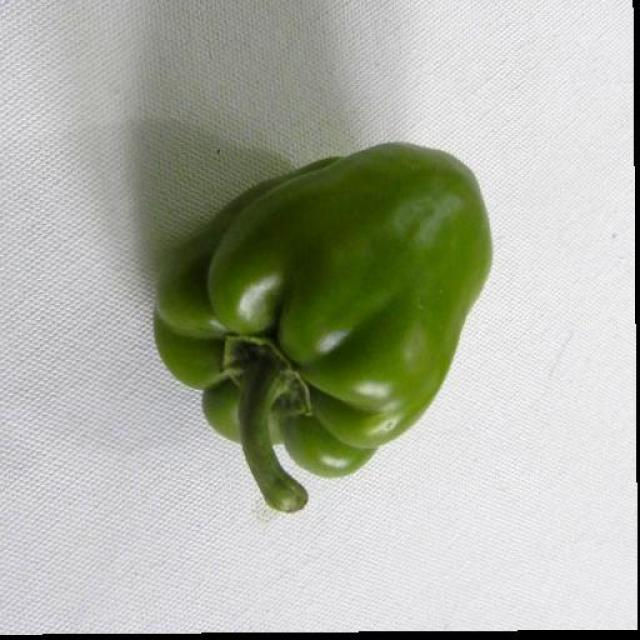Fresh_Capsicum: (170, 113, 475, 508)
